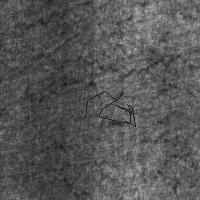crazing: (20, 50, 194, 102), (106, 109, 195, 188), (85, 91, 135, 126)
